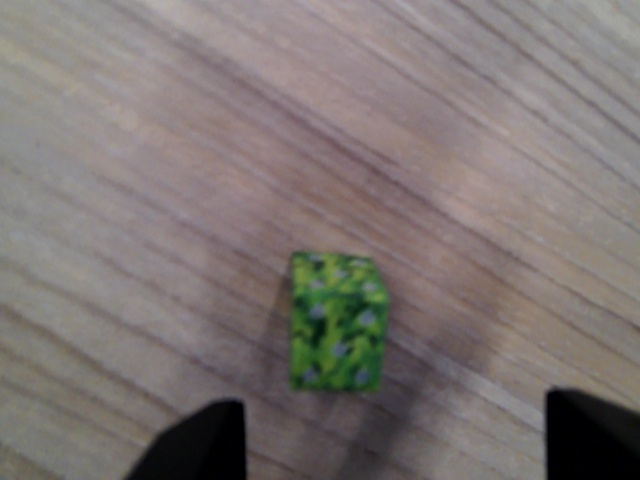grass: (285, 242, 394, 396)
